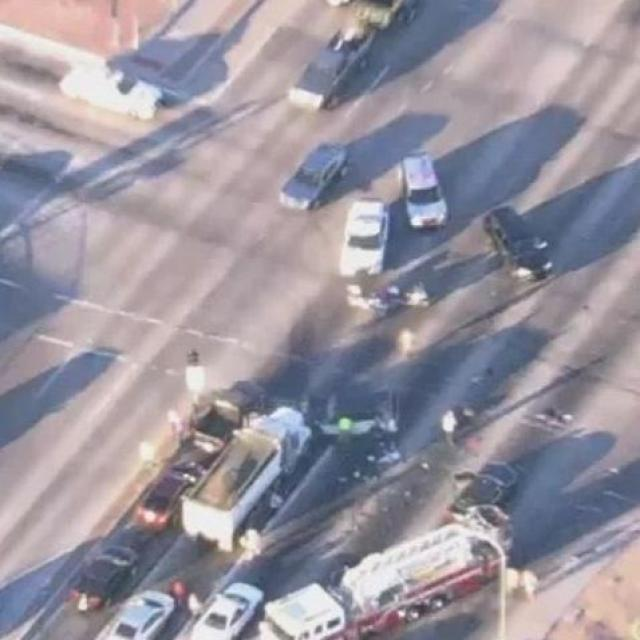traffic_incident: (300, 361, 526, 514)
